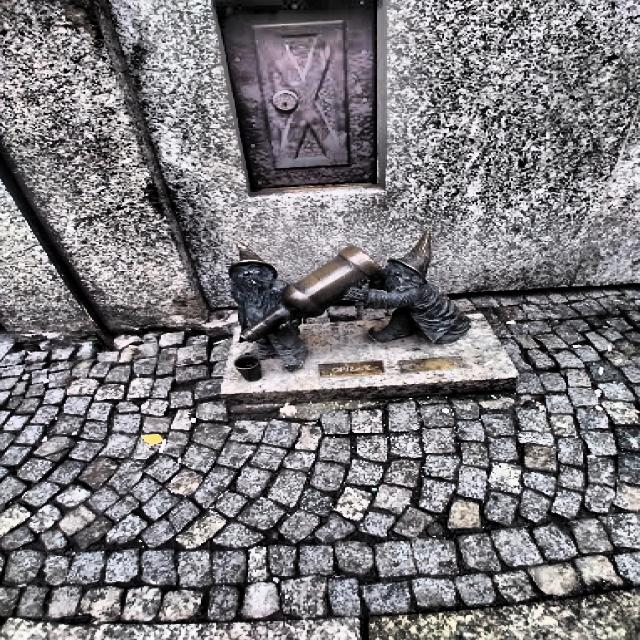Ogorzalek_i_Opilek: (230, 233, 469, 369)
